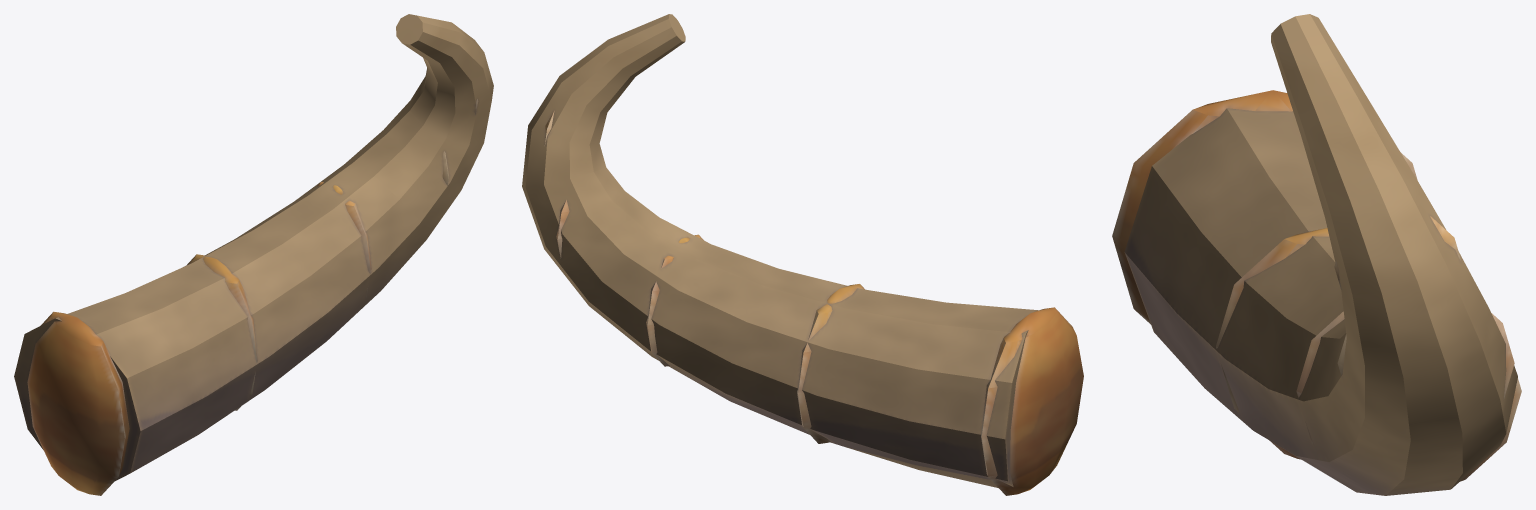
The model's file is tusk.glb.
3 views of the same model, side by side, from view 1: azimuth 30°, elevation 25°; view 2: azimuth 150°, elevation 25°; view 3: azimuth 270°, elevation 25° (orthographic). The views are drawn at different scales.
Visible parts, largest first — view 1: SM_Tusk; view 2: SM_Tusk; view 3: SM_Tusk.
Boxes of the visible parts, x1=… form: SM_Tusk: x1=14, y1=14, x2=493, y2=495; SM_Tusk: x1=522, y1=14, x2=1083, y2=495; SM_Tusk: x1=1112, y1=14, x2=1521, y2=495.
Bounding box in the file's own units: 0.36 × 0.2813 × 0.1603.
2 materials, 2 textured.
